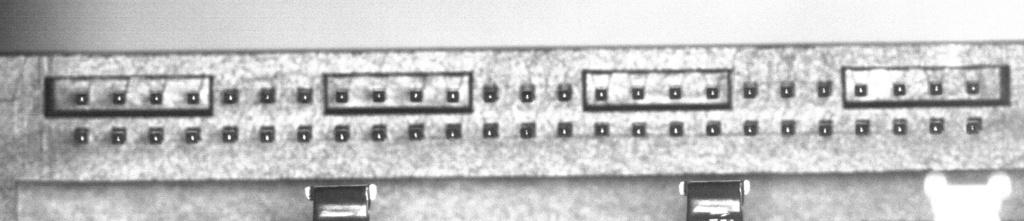pin_ok: (482, 84, 499, 102), (966, 116, 983, 133), (184, 127, 201, 144), (334, 124, 350, 142), (520, 83, 535, 102), (929, 117, 945, 134), (148, 127, 164, 144), (408, 123, 424, 140), (259, 126, 275, 143), (222, 125, 238, 142), (482, 122, 499, 138), (742, 82, 758, 98), (780, 119, 796, 135), (892, 118, 908, 134), (296, 126, 312, 142), (445, 123, 461, 139), (371, 125, 387, 141), (259, 87, 275, 103), (222, 88, 238, 104), (296, 87, 312, 103), (855, 118, 870, 135), (557, 84, 572, 101), (111, 127, 126, 144), (780, 82, 795, 98), (817, 81, 832, 97), (743, 119, 758, 135), (519, 123, 535, 138), (594, 121, 610, 136), (818, 121, 833, 137), (706, 120, 721, 135), (669, 121, 684, 136), (557, 122, 572, 137), (631, 122, 646, 137), (76, 127, 89, 144), (705, 85, 719, 99), (446, 89, 460, 103), (334, 89, 348, 103), (594, 87, 608, 101), (928, 82, 943, 95), (631, 86, 644, 100), (372, 89, 386, 102), (186, 91, 200, 104), (854, 84, 868, 97), (74, 92, 88, 105), (149, 91, 163, 104), (669, 86, 682, 99), (410, 89, 423, 102), (893, 83, 906, 96), (967, 81, 980, 94), (112, 92, 125, 104)
